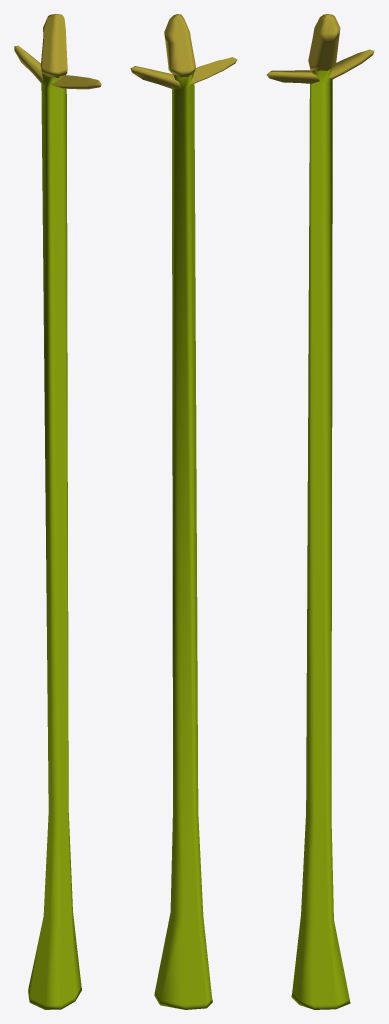
Rendered from milho inteiro com cores.fbx.
The picture shows the model from 3 angles, left to right: view 1: azimuth 90°, elevation 25°; view 2: azimuth 150°, elevation 25°; view 3: azimuth 330°, elevation 25°; orthographic projection.
Parts seen in each view (by area): view 1: Caule_MESH; view 2: Caule_MESH; view 3: Caule_MESH.
Part boxes in pixels (<box>): Caule_MESH: <box>14,14,101,1009</box>; Caule_MESH: <box>130,14,237,1009</box>; Caule_MESH: <box>266,14,374,1009</box>.
Bounding box in the file's own units: 14 × 205 × 16.55.
